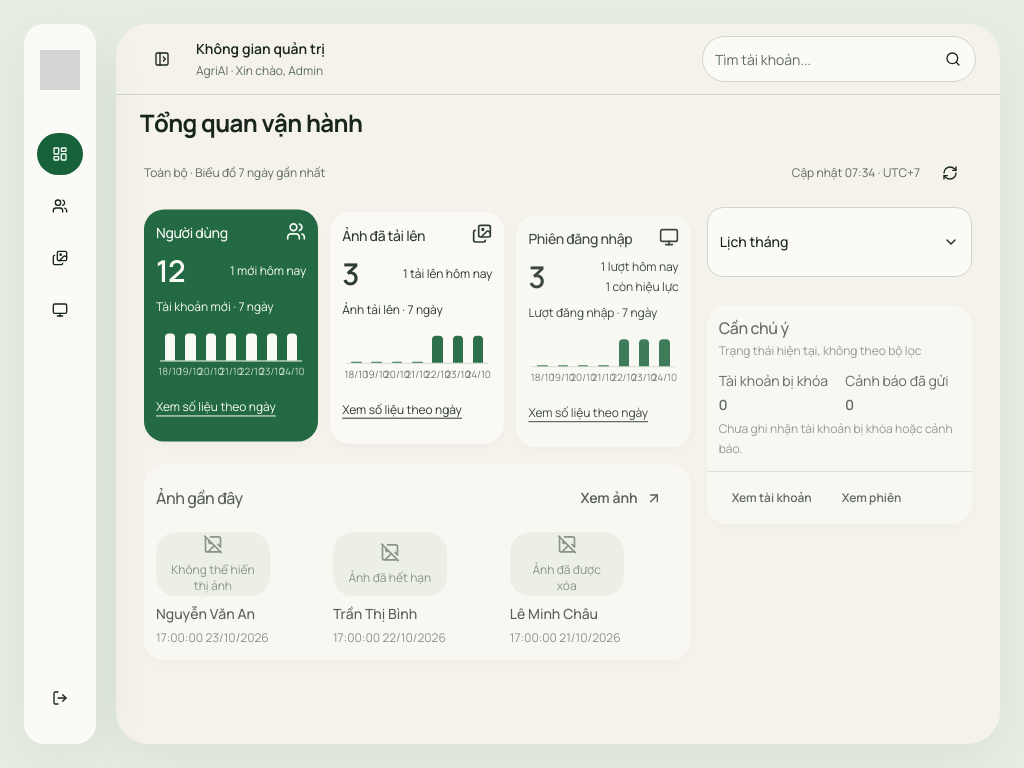
Test: Admin frontend integration with real mock provider and components › cancels a lock without changing the account or active session
The width and height of the screenshot is (1024, 768).
Expected: the heading "Tổng quan vận hành" is shown, 140,106 -> 362,139
Click the button named "Người dùng" at (60, 206), box 36,184 -> 84,228
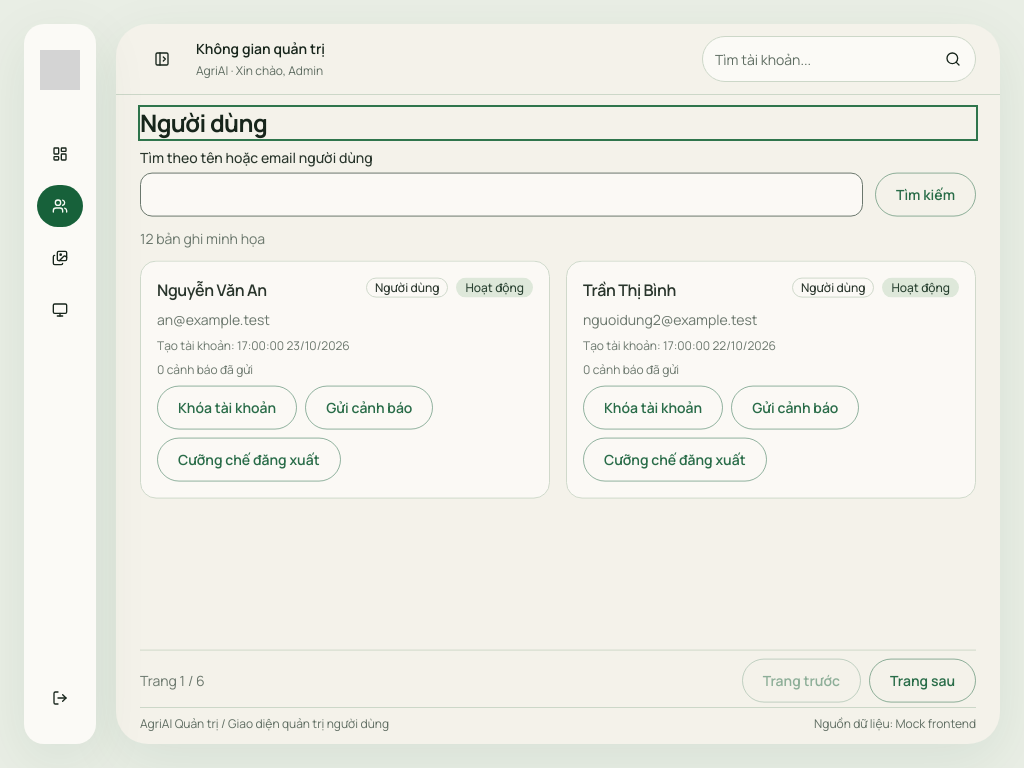
Click the button "Khóa tài khoản" below "17:00:00 23/10/2026" at (227, 408), box 157,386 -> 297,430
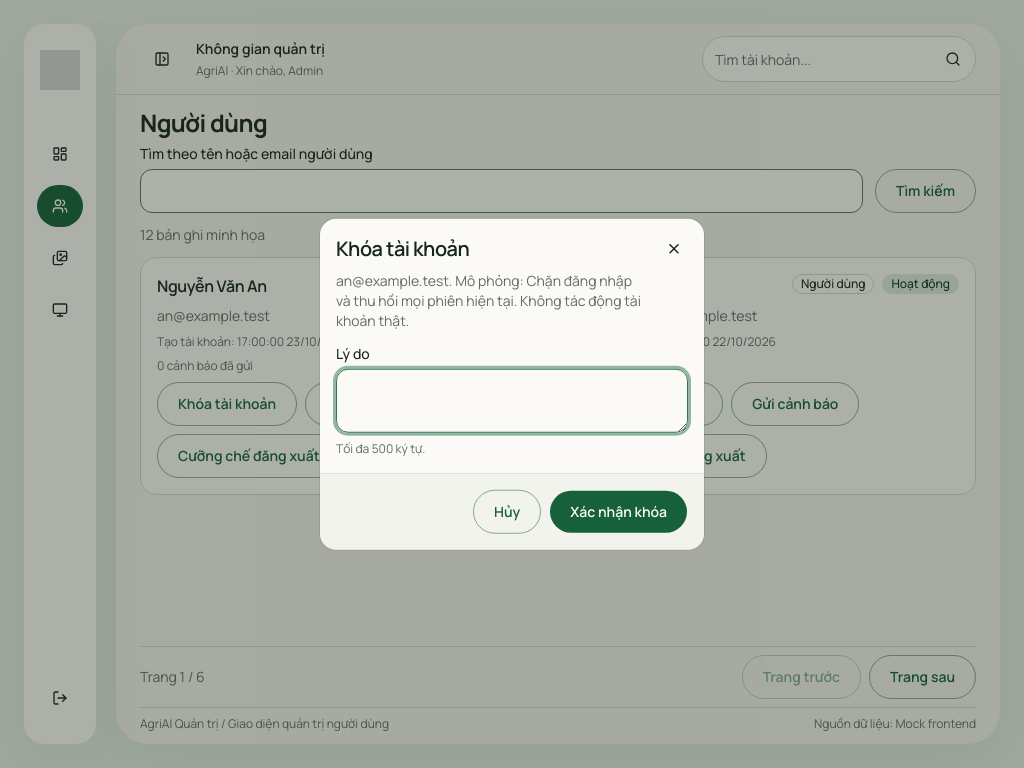
Type "Không xác nhận" into the text box labelled "Lý do" at (512, 400), box 336,368 -> 688,432
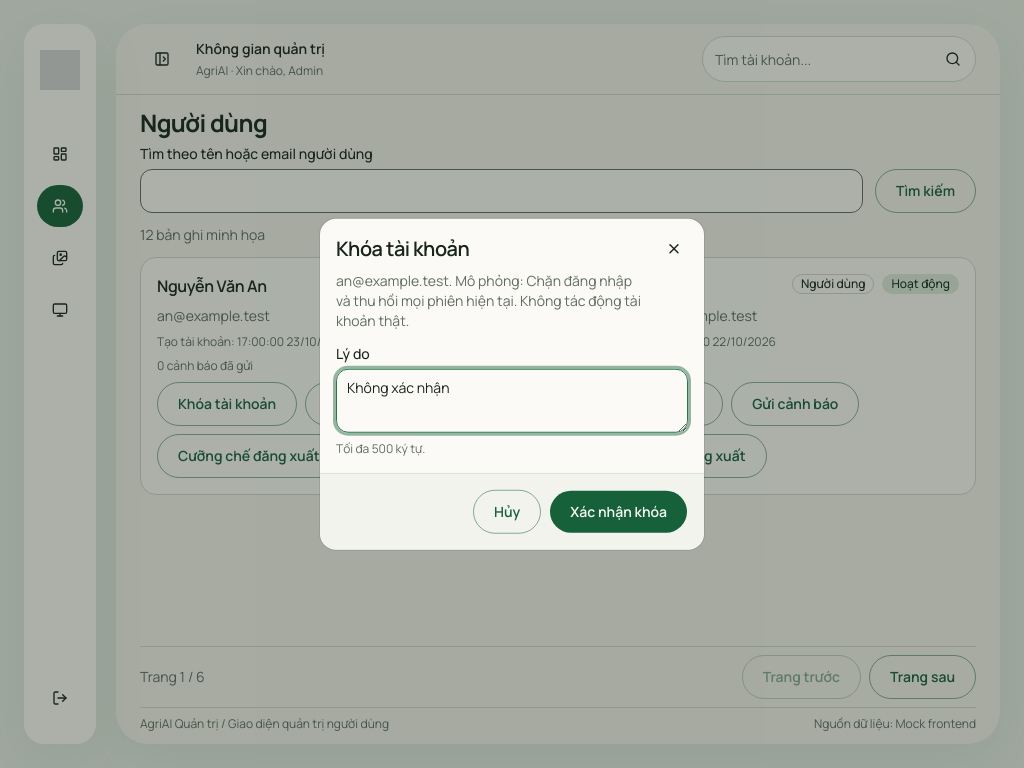
Click the button "Hủy" at (507, 511), box 473,489 -> 541,533
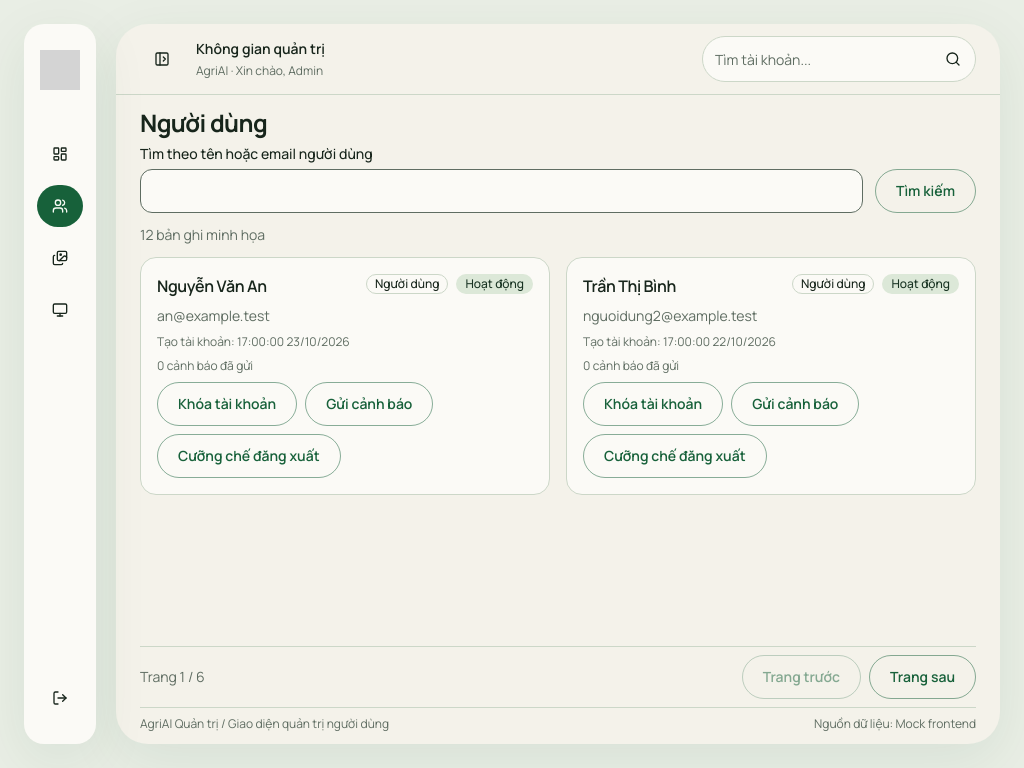
Now the text "Hoạt động" in the row of "Nguyễn Văn An" is shown, box 466,275 -> 524,292
Now the dialog is gone
Click the button named "Phiên đăng nhập" at (60, 310), box 36,288 -> 84,332
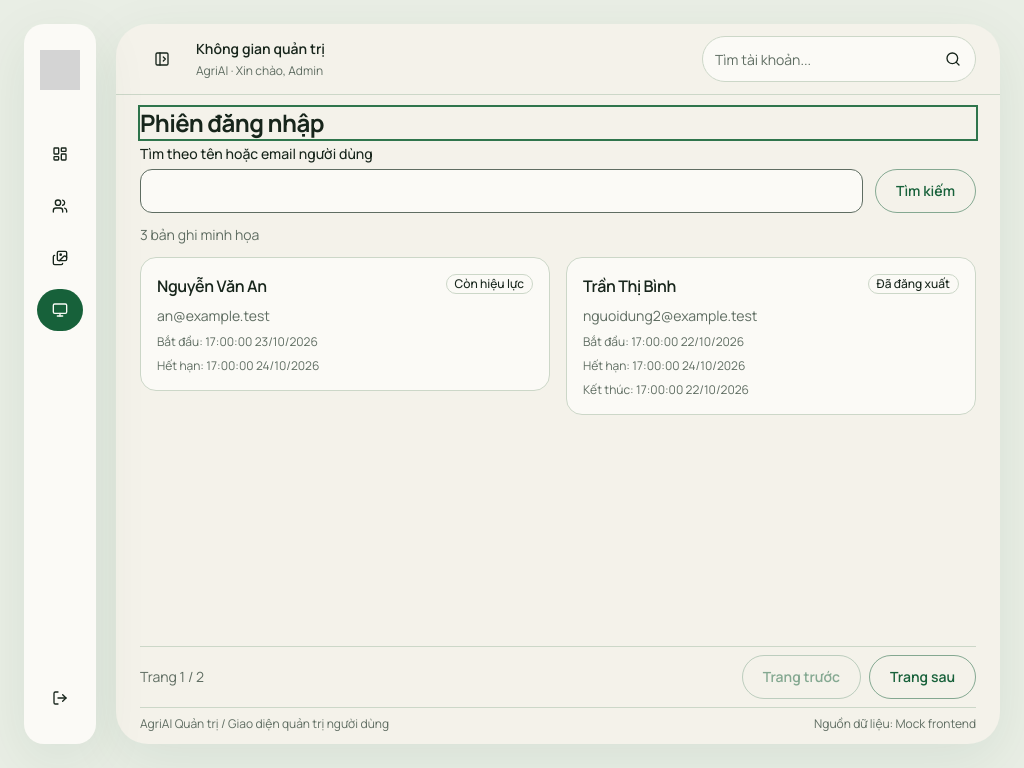
Now the text "Còn hiệu lực" is shown, box 446,274 -> 533,294
